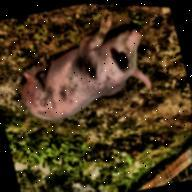boar: (5, 3, 160, 132)
